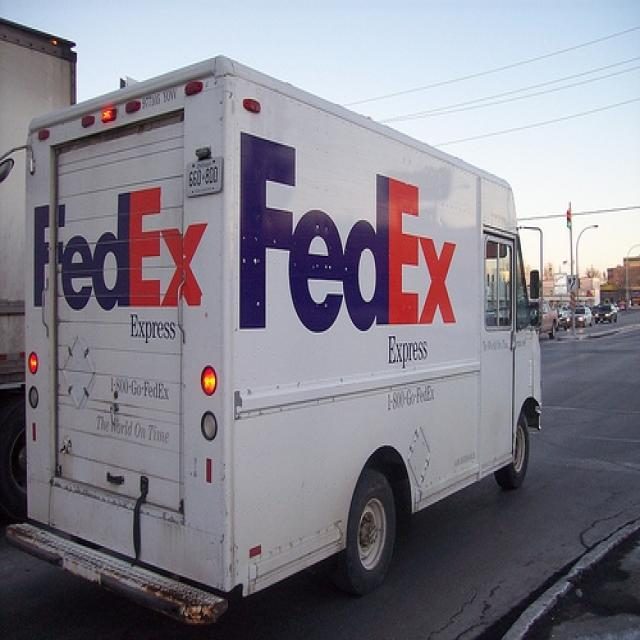fedex: (231, 124, 463, 335), (31, 184, 210, 313)
